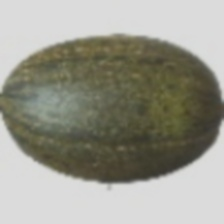honeydew: (32, 29, 170, 171)
